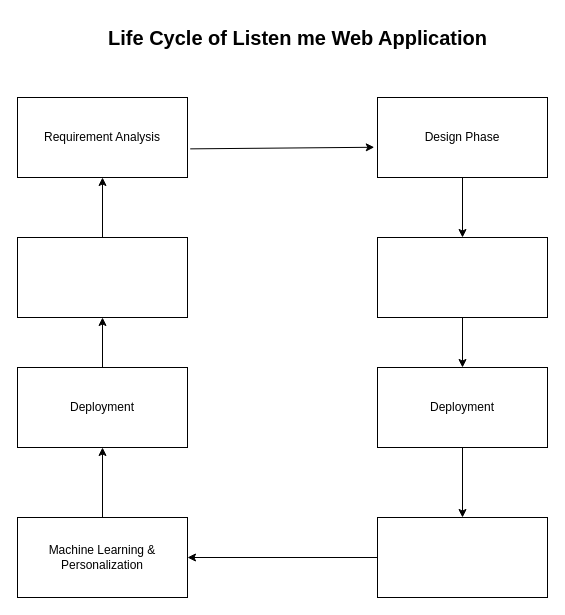
This 565x615 diagram has some shape labels left out. Here are the shapes that lost their labels. From the top down, the centre of each, then its label:
the point at 102,277: Development Phase
the point at 462,277: Testing Phase
the point at 462,557: Maintenance and iteration
